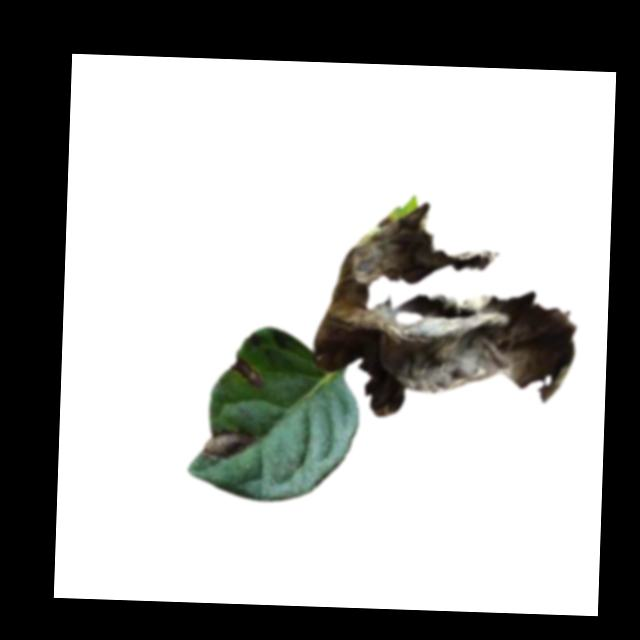Early_blight: (308, 199, 576, 422), (196, 429, 258, 463), (229, 355, 263, 389)
